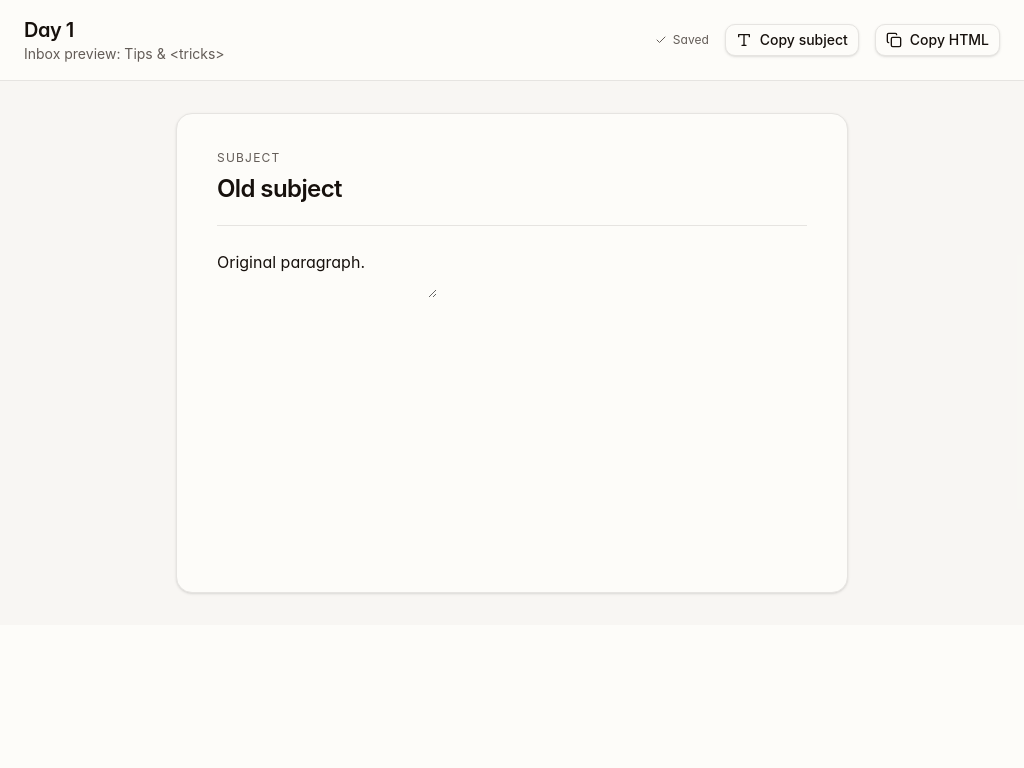
Test case: EmailPreview copy › copies rich HTML with a hidden preheader, and the source as plain text
Click the button "Copy HTML" at [937, 40], box [875,24,1000,56]
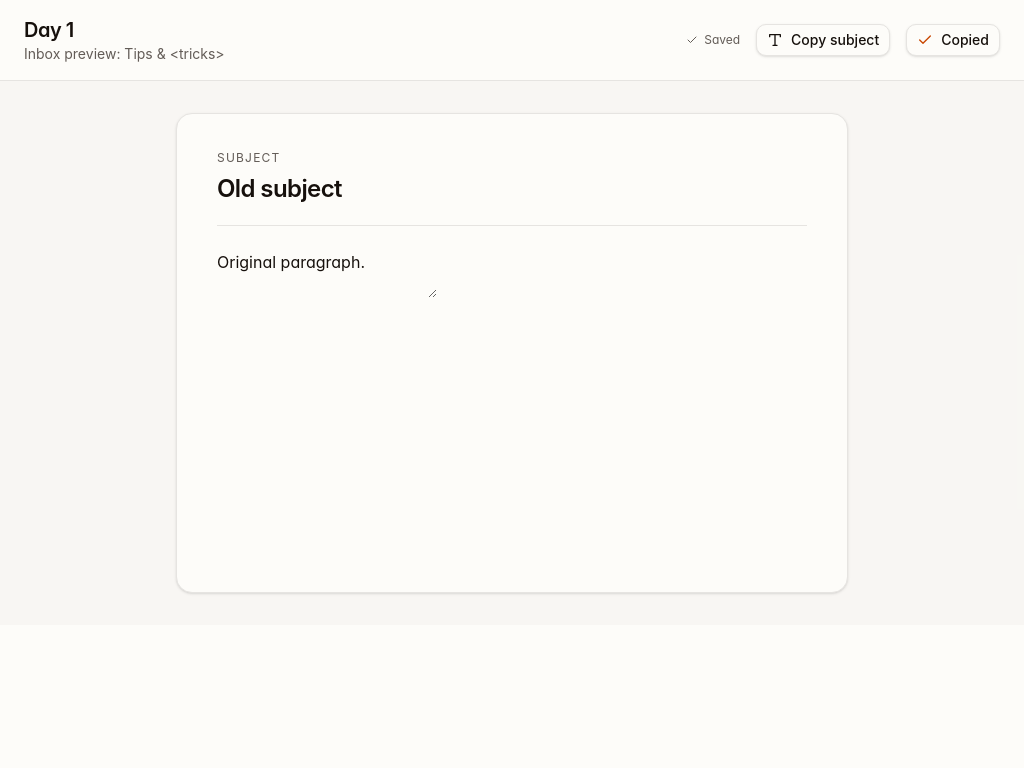
Expected: the text "Copied" is shown, [941,30,989,50]
